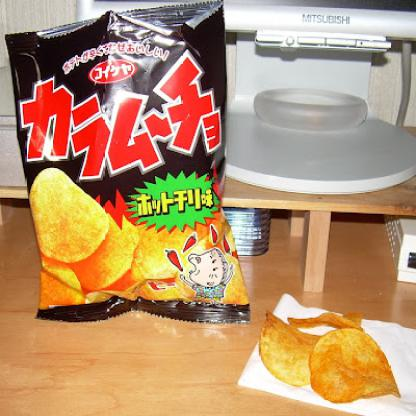potatochip: (11, 0, 250, 329)
